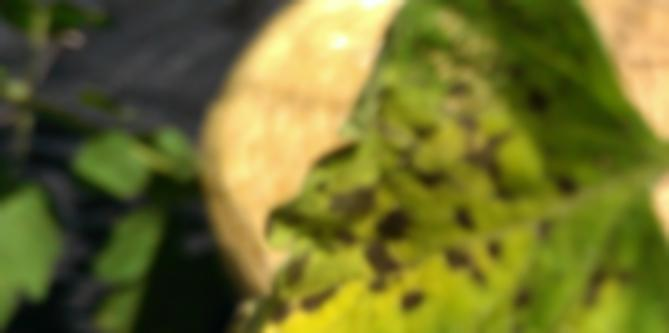Tomato Septoria leaf spot: (212, 0, 669, 333)
